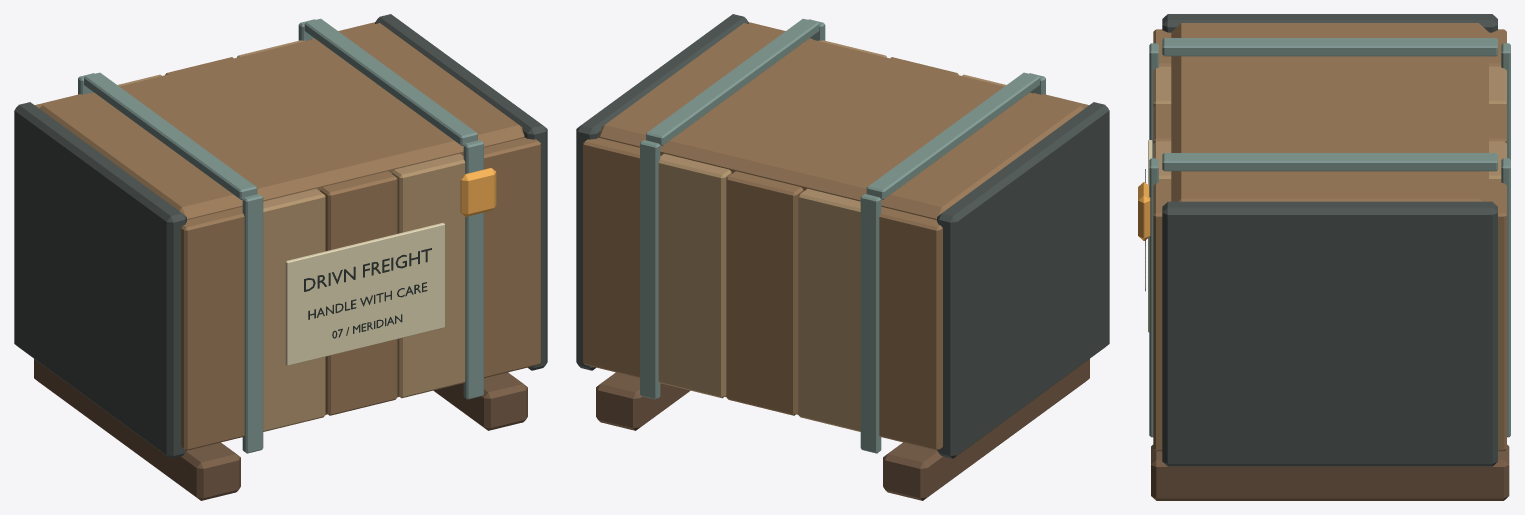
Rendered from delivery_crate.glb.
3 renders of one model, left to right at view 1: azimuth 30°, elevation 25°; view 2: azimuth 150°, elevation 25°; view 3: azimuth 270°, elevation 25°, orthographic. The views are drawn at different scales.
Parts seen in each view (by area): view 1: Body_delivery_crate; view 2: Body_delivery_crate; view 3: Body_delivery_crate.
Part boxes in pixels (x1,y1,x2,y2): Body_delivery_crate: (14,14,547,500); Body_delivery_crate: (576,14,1109,500); Body_delivery_crate: (1138,14,1510,500).
Bounding box in the file's own units: 1.04 × 0.773 × 0.822.
